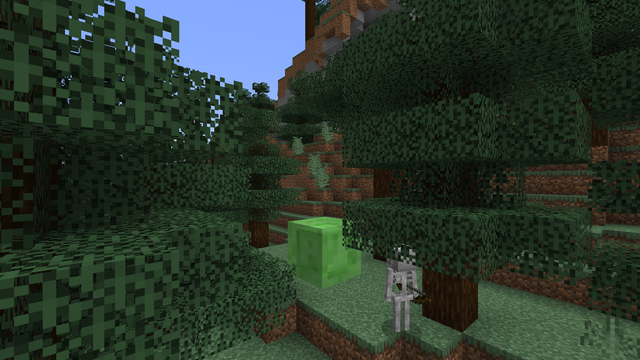slimes: (286, 214, 362, 289)
squelettes: (383, 262, 418, 340)
